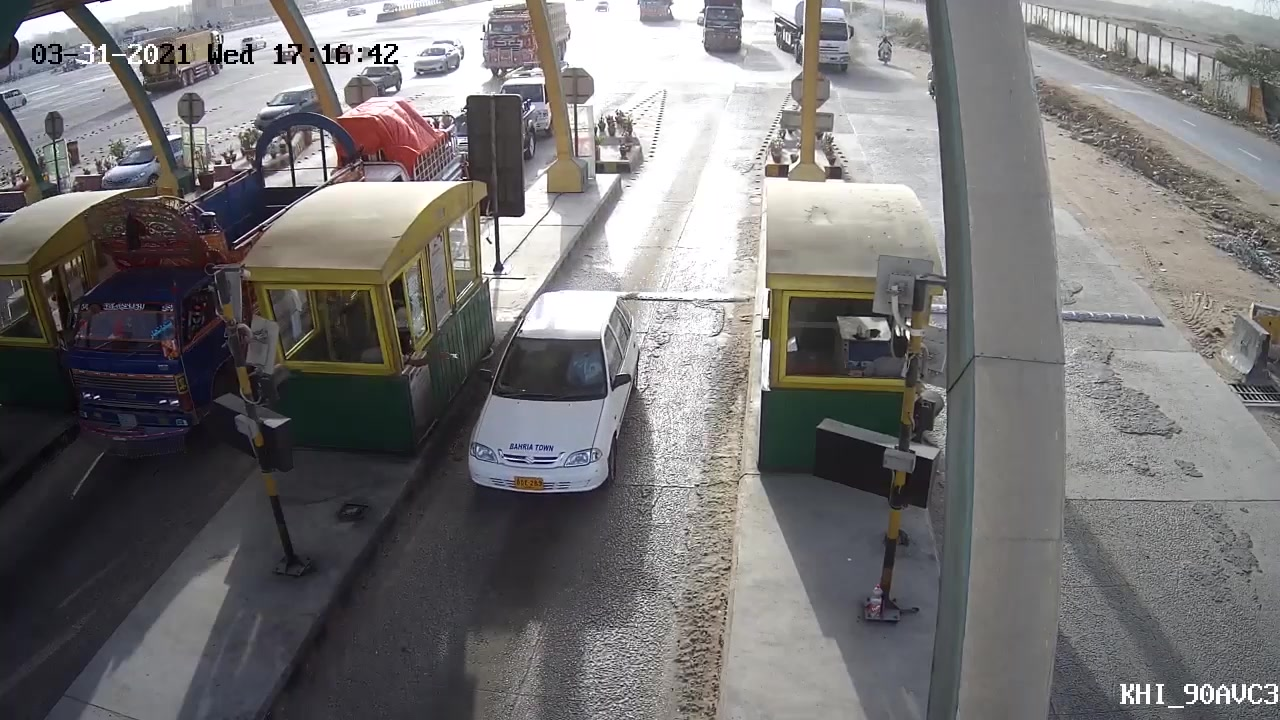F1: (446, 282, 643, 505)
